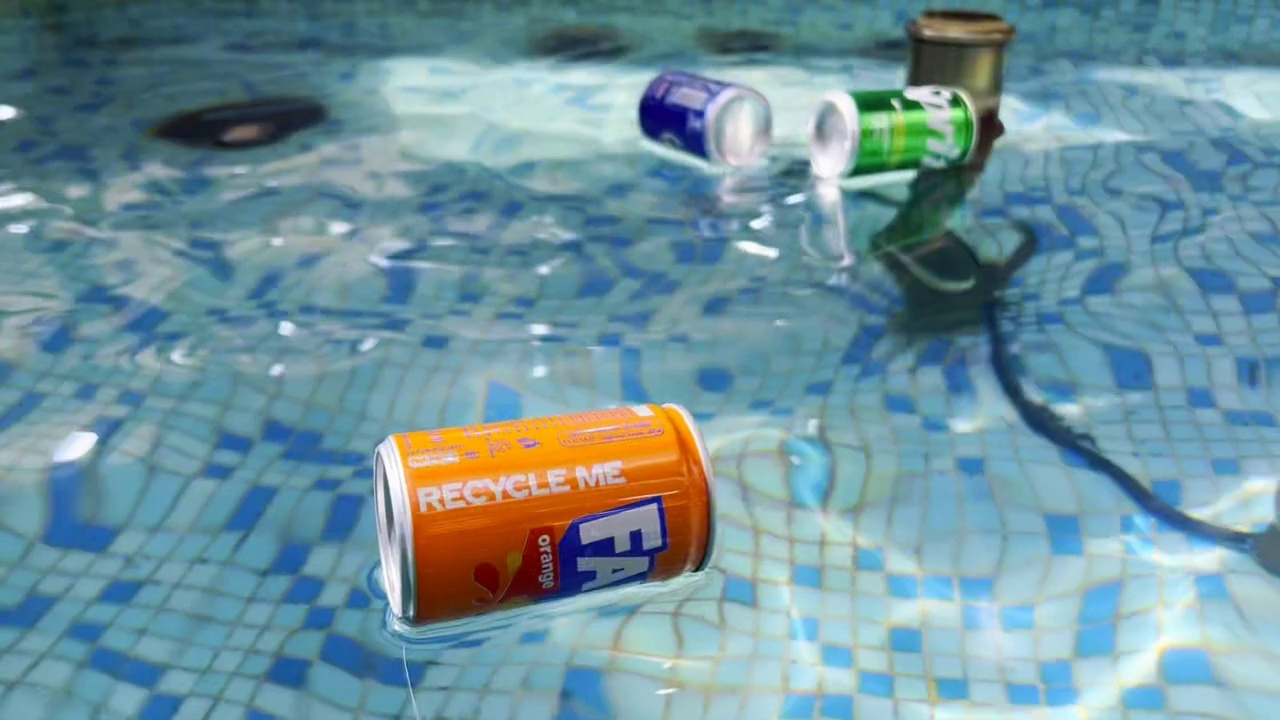debris: (360, 375, 723, 649), (798, 64, 990, 198), (627, 56, 775, 176)
